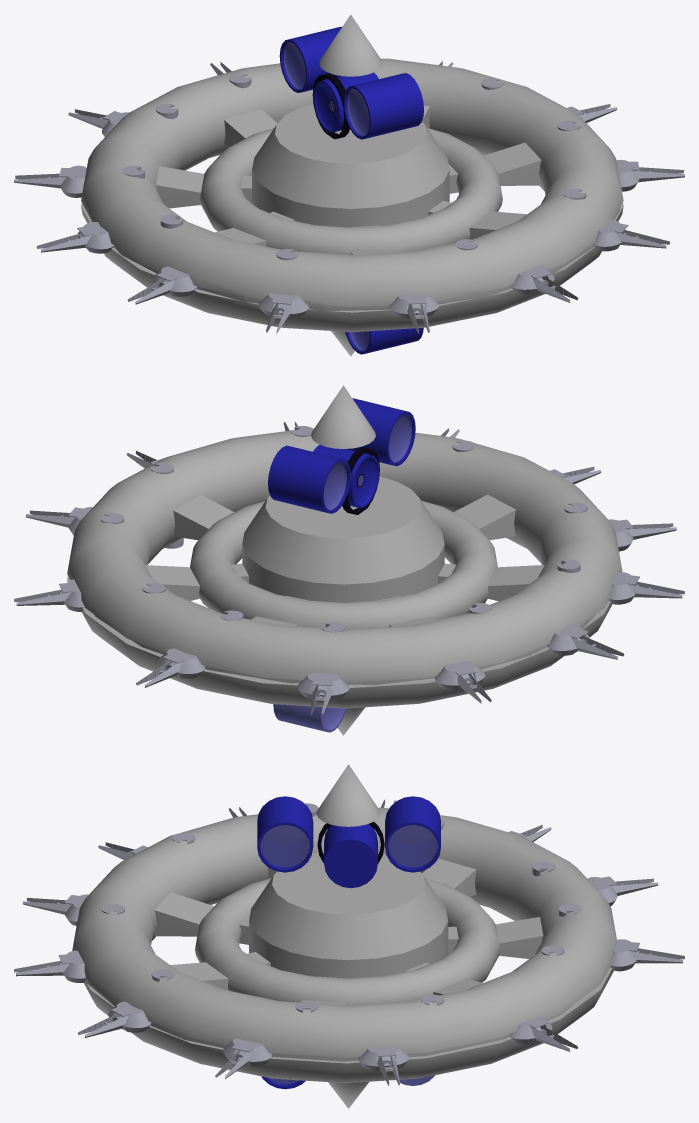
The model's file is CapShip.fbx.
3 renders of one model, top to bottom at view 1: azimuth 30°, elevation 25°; view 2: azimuth 150°, elevation 25°; view 3: azimuth 270°, elevation 25°, orthographic. The views are drawn at different scales.
Parts seen in each view (by area): view 1: palusu20, pPipe21, palusu21, pCylinder87, polySurface2379, polySurface2374, polySurface2378, polySurface2380, polySurface2375, polySurface2377, polySurface2373, polySurface2376 (+1 smaller); view 2: palusu20, pPipe21, palusu21, pCylinder87, polySurface2379, polySurface2382, polySurface2378, polySurface2380, polySurface2381, polySurface2349, polySurface2377, polySurface2372; view 3: palusu20, pPipe21, palusu21, polySurface2374, polySurface2382, polySurface2373, polySurface2375, polySurface2349, polySurface2372, polySurface2381, polySurface2376, pCylinder87.
Part boxes in pixels (x1,y1,x2,y2): palusu20: (81, 14, 623, 356); pPipe21: (279, 26, 423, 139); palusu21: (122, 73, 586, 260); pCylinder87: (345, 327, 423, 354); polySurface2379: (36, 222, 114, 253); polySurface2374: (593, 220, 670, 251); polySurface2378: (127, 266, 197, 304); polySurface2380: (14, 165, 86, 197); polySurface2375: (510, 265, 578, 302); polySurface2377: (258, 293, 309, 333); polySurface2373: (616, 159, 684, 191); polySurface2376: (388, 294, 438, 333); palusu20: (67, 385, 622, 735); pPipe21: (268, 398, 415, 514); palusu21: (100, 426, 587, 632); pCylinder87: (273, 704, 345, 732); polySurface2379: (546, 624, 624, 659); polySurface2382: (136, 648, 204, 687); polySurface2378: (608, 572, 684, 604); polySurface2380: (434, 661, 491, 703); polySurface2381: (297, 672, 349, 715); polySurface2349: (14, 579, 84, 611); polySurface2377: (609, 519, 676, 551); polySurface2372: (25, 507, 92, 535); palusu20: (72, 764, 617, 1108); pPipe21: (257, 796, 440, 888); palusu21: (101, 803, 581, 1012); polySurface2374: (78, 1001, 151, 1037); polySurface2382: (610, 939, 684, 971); polySurface2373: (215, 1038, 272, 1079); polySurface2375: (14, 950, 85, 982); polySurface2349: (509, 1015, 578, 1051); polySurface2372: (358, 1046, 409, 1085); polySurface2381: (587, 876, 658, 906); polySurface2376: (23, 894, 88, 925); pCylinder87: (261, 1075, 434, 1089).
Size of the model in its own units: 315 by 178 by 315.
